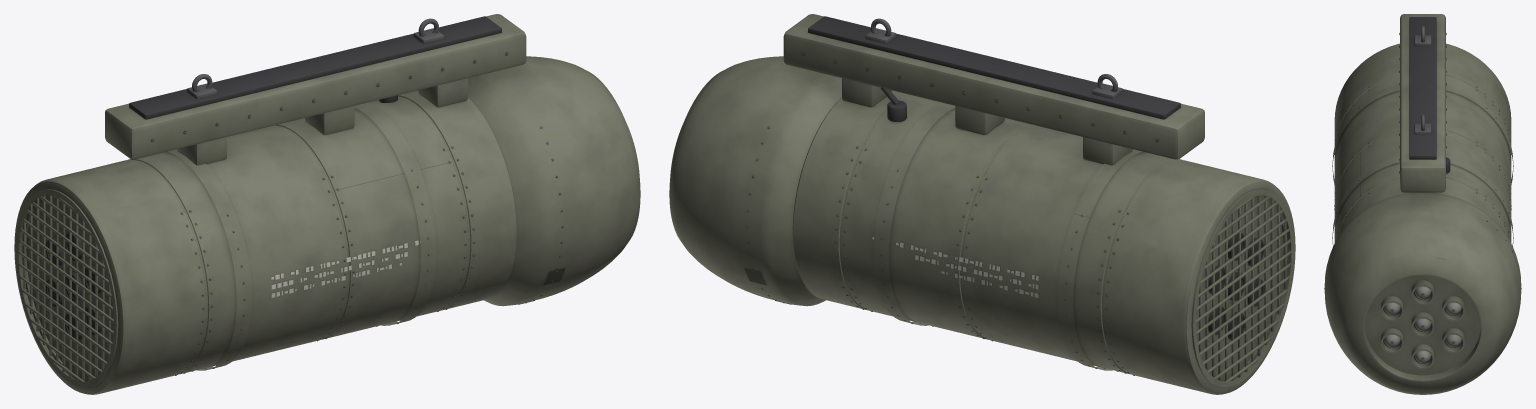
File: rockets_1.glb
3 views of the same model, side by side, from view 1: azimuth 30°, elevation 25°; view 2: azimuth 150°, elevation 25°; view 3: azimuth 270°, elevation 25° (orthographic). The views are drawn at different scales.
Parts seen in each view (by area): view 1: rockets_1; view 2: rockets_1; view 3: rockets_1.
Boxes of the visible parts, bbox=[...] form: rockets_1: bbox=[14, 14, 640, 394]; rockets_1: bbox=[669, 14, 1295, 394]; rockets_1: bbox=[1324, 14, 1521, 394].
Size of the model in its own units: 0.757 by 0.3949 by 0.3014.
6 materials, 6 textured.
